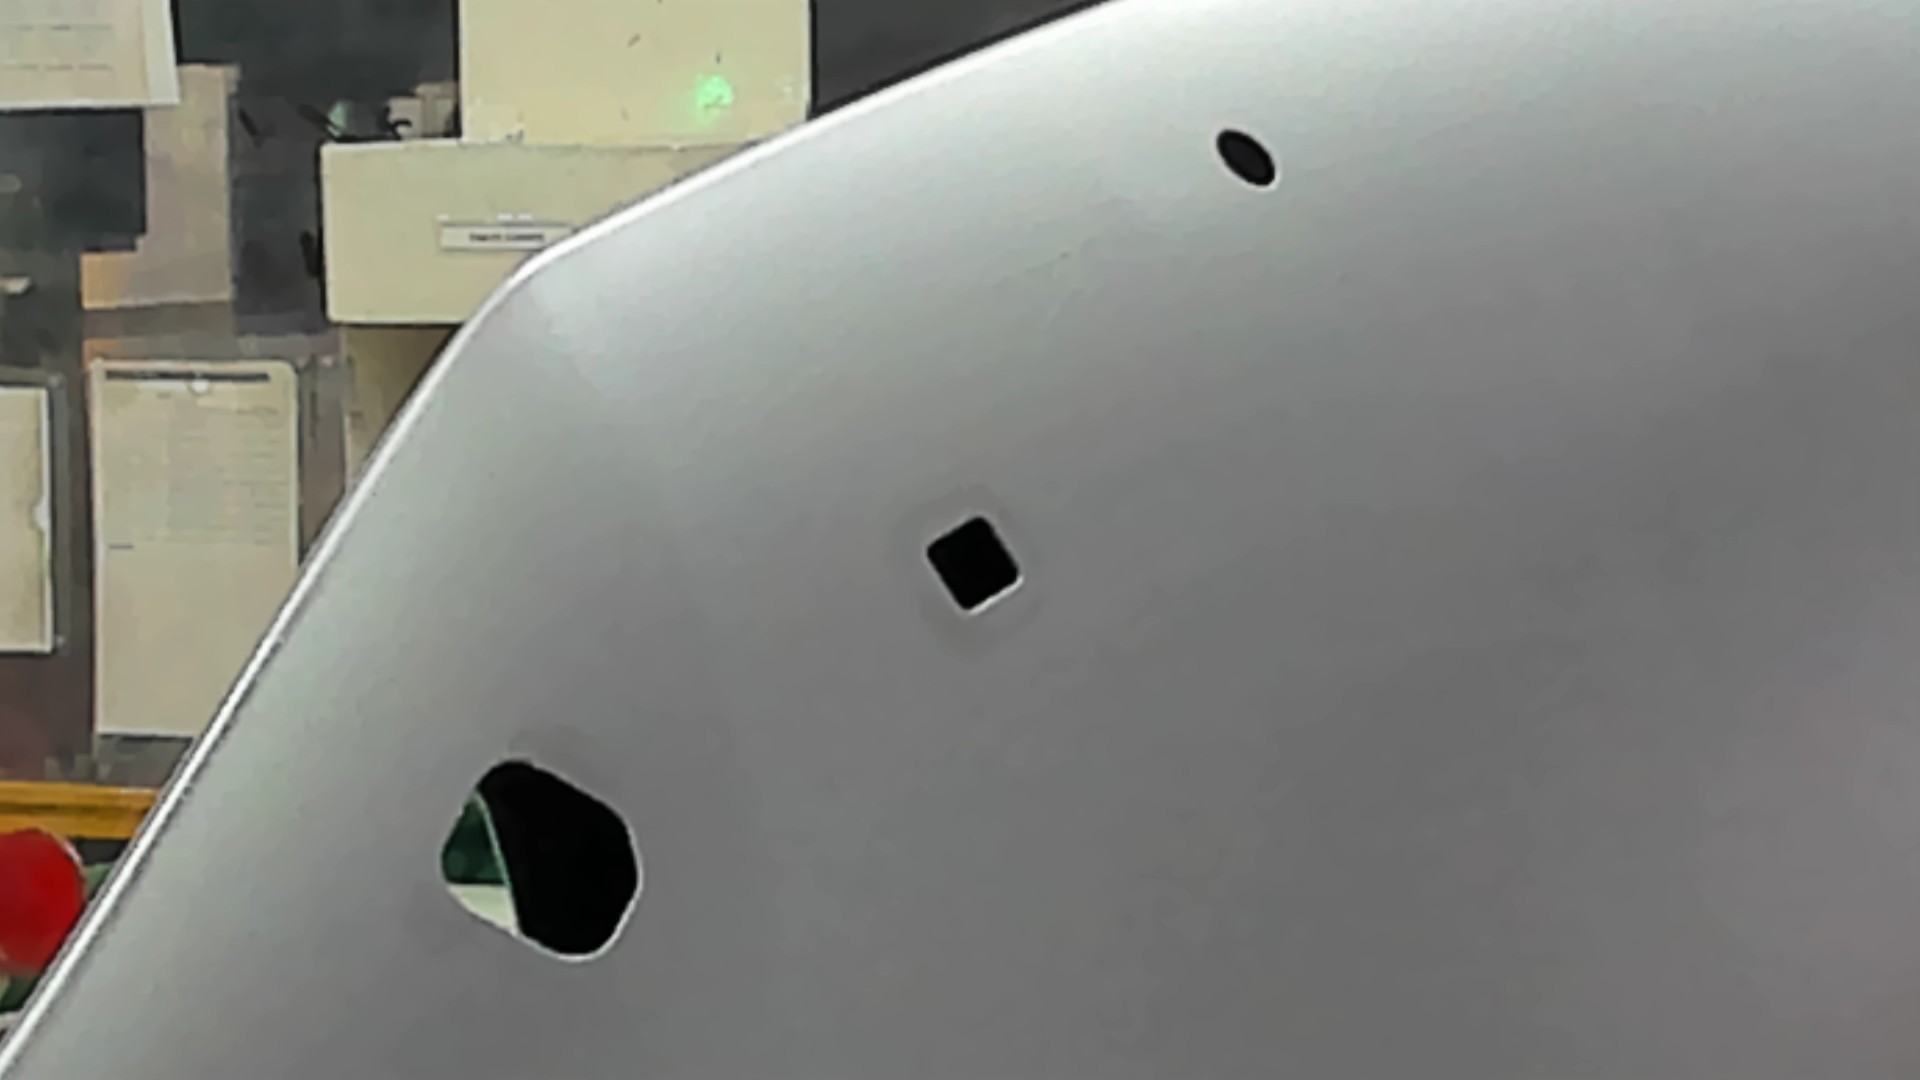chico: (1204, 115, 1292, 206)
grande: (415, 738, 661, 973)
mediano: (906, 505, 1043, 636)
